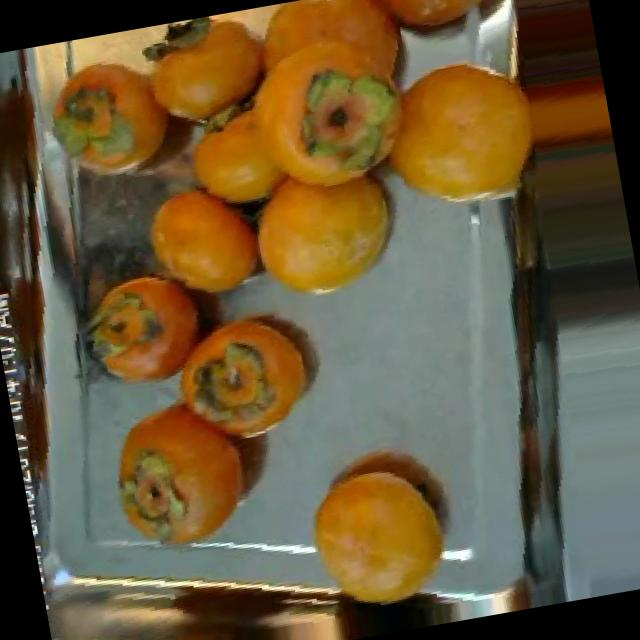Fruit: (75, 366, 318, 575), (351, 21, 584, 236), (274, 409, 486, 633), (220, 120, 433, 324), (138, 286, 352, 466), (60, 247, 234, 410), (123, 165, 290, 316), (472, 0, 604, 108)
